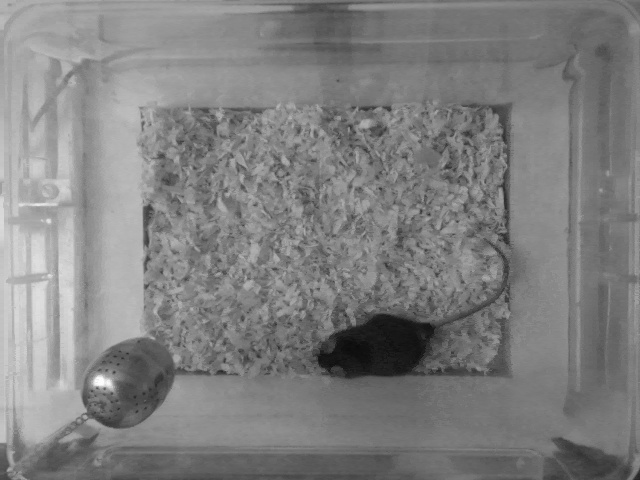mice: (314, 237, 512, 384)
